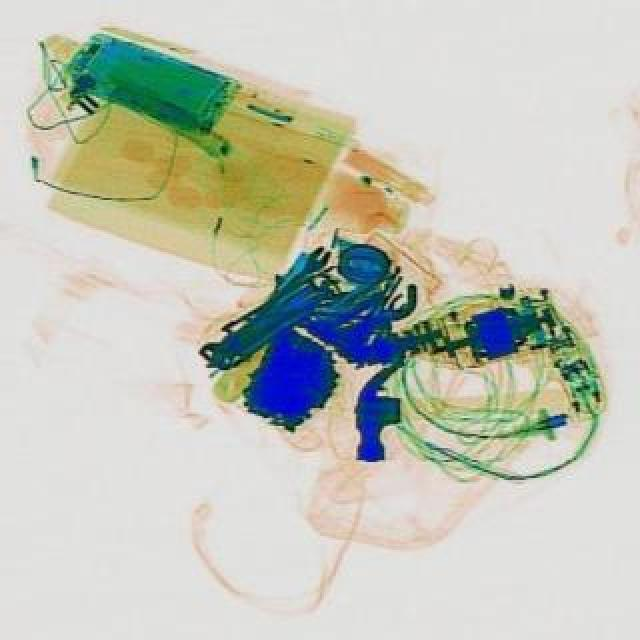scissors: (242, 240, 334, 322), (194, 318, 266, 366)
